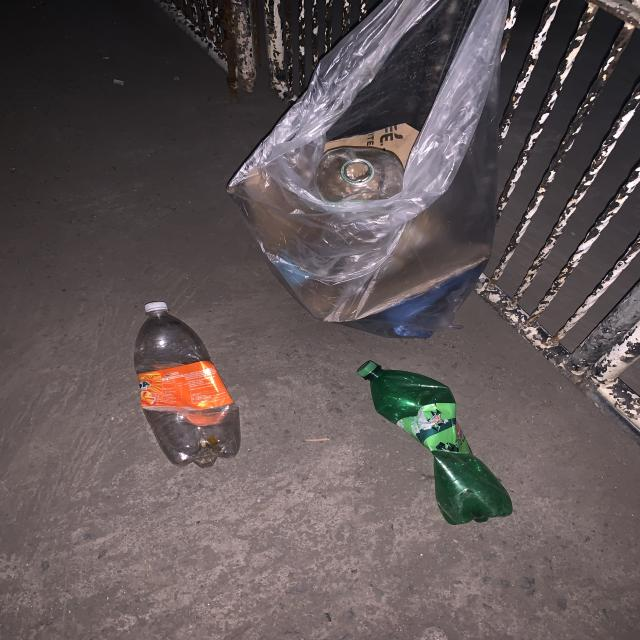Bottle: (357, 361, 512, 525), (134, 302, 240, 468)
